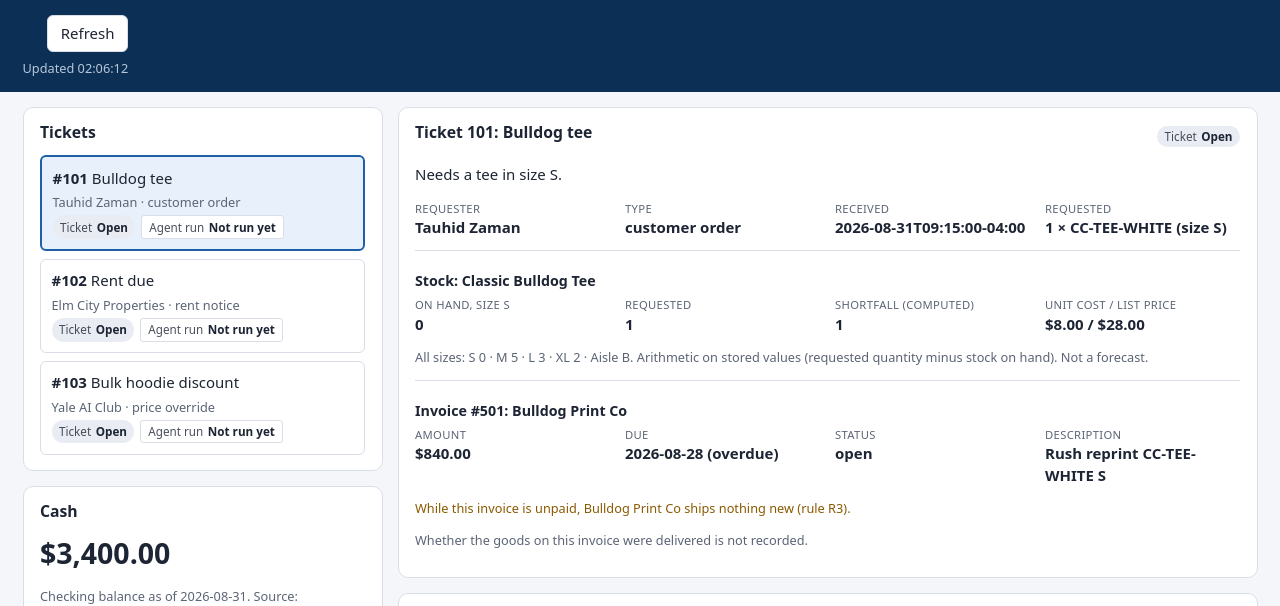
agent runs › shows interrupted and failed runs honestly
The image size is (1280, 606).
Click the button with aria-label "Ticket 103: Bulk hoodie discount, open": (202, 408) 40,360 -> 365,455
(page scrolled)
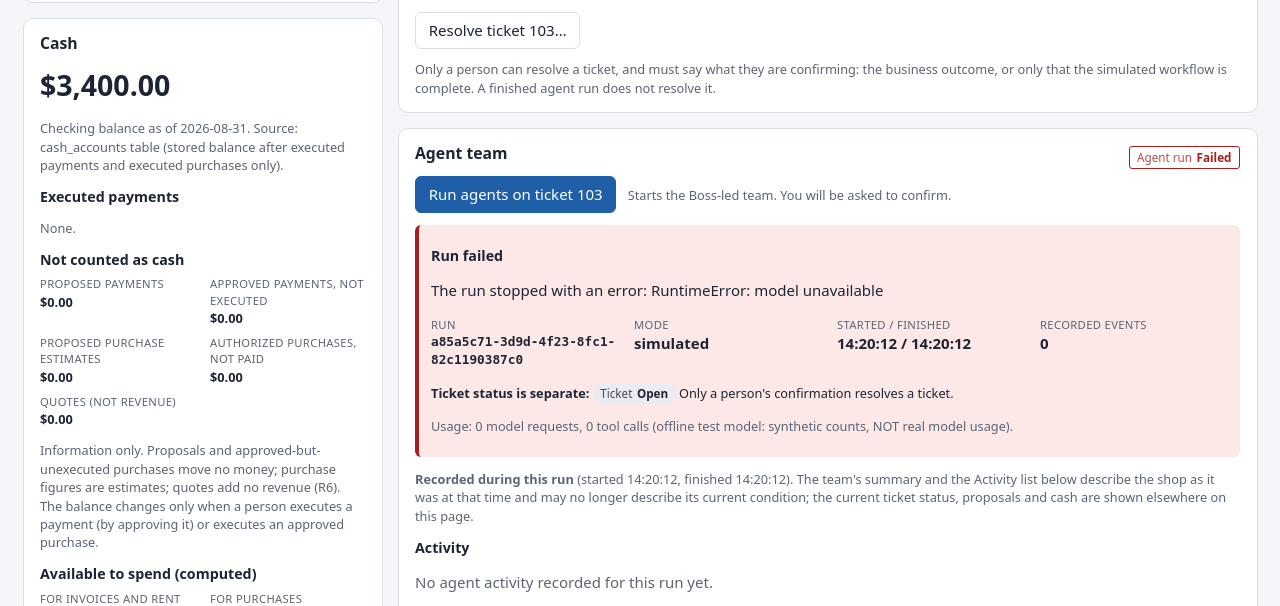
Expected: the heading "Run failed" is shown, 431,246 -> 503,265
Expected: the text "model unavailable" is shown, 431,280 -> 883,300
